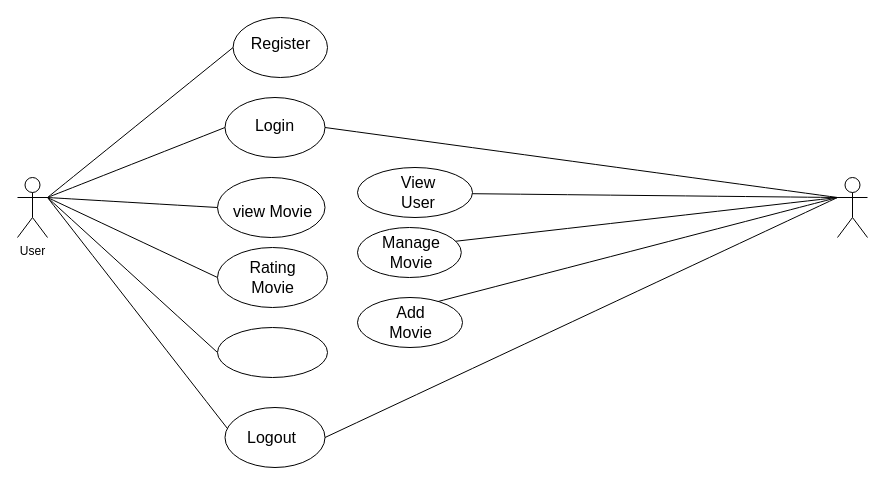
This 887x485 diagram has some shape labels left out. Here are the shapes that lost their labels. From the top down, the centre of each, then its label:
the point at 852,207: Admin
the point at 272,352: Review movie
